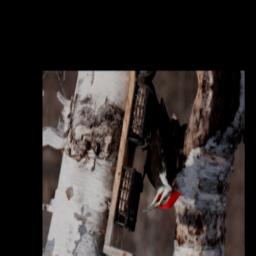Woodpecker: (134, 95, 188, 218)
